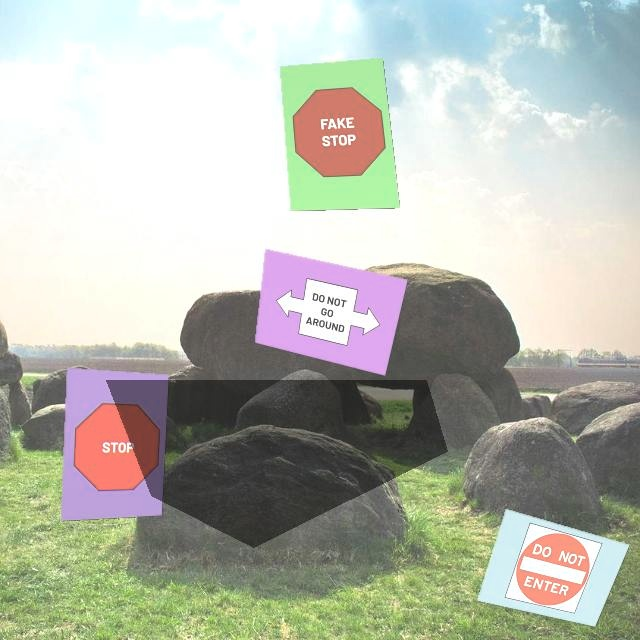DO_NOT_ENTER: (505, 522, 604, 616)
DO_NOT_GO_AROUND: (272, 271, 387, 355)
FAKE_STOP: (288, 82, 389, 185)
STOP: (73, 402, 161, 492)
